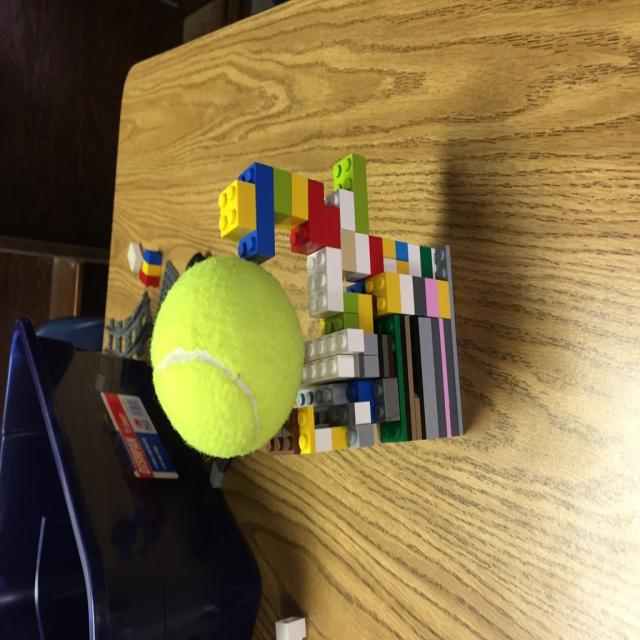Tennis ball: (150, 255, 308, 460)
